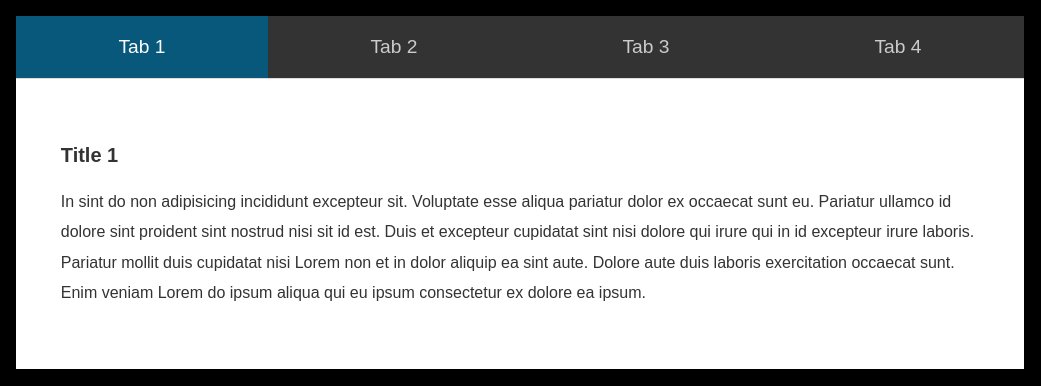
Test: renders tabs and changes content on click
Expected: the button "Tab 1" is shown, [16, 16, 268, 78]
Expected: the text "In sint do non adipisicing incididunt excepteur sit" is shown, [61, 193, 974, 301]
Click on the second tab
Click the button "Tab 2".
click(394, 47)  # box [268, 16, 520, 78]
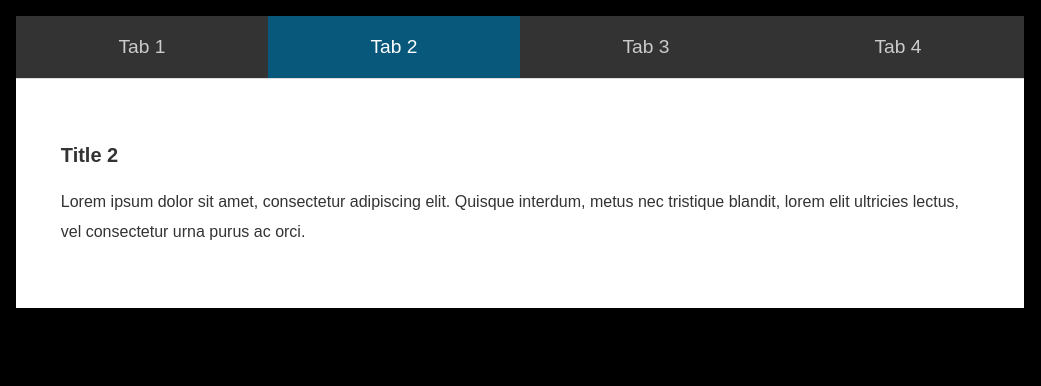
Now the text "Lorem ipsum dolor sit amet, consectetur adipiscing elit" is shown, box [61, 193, 959, 240]
